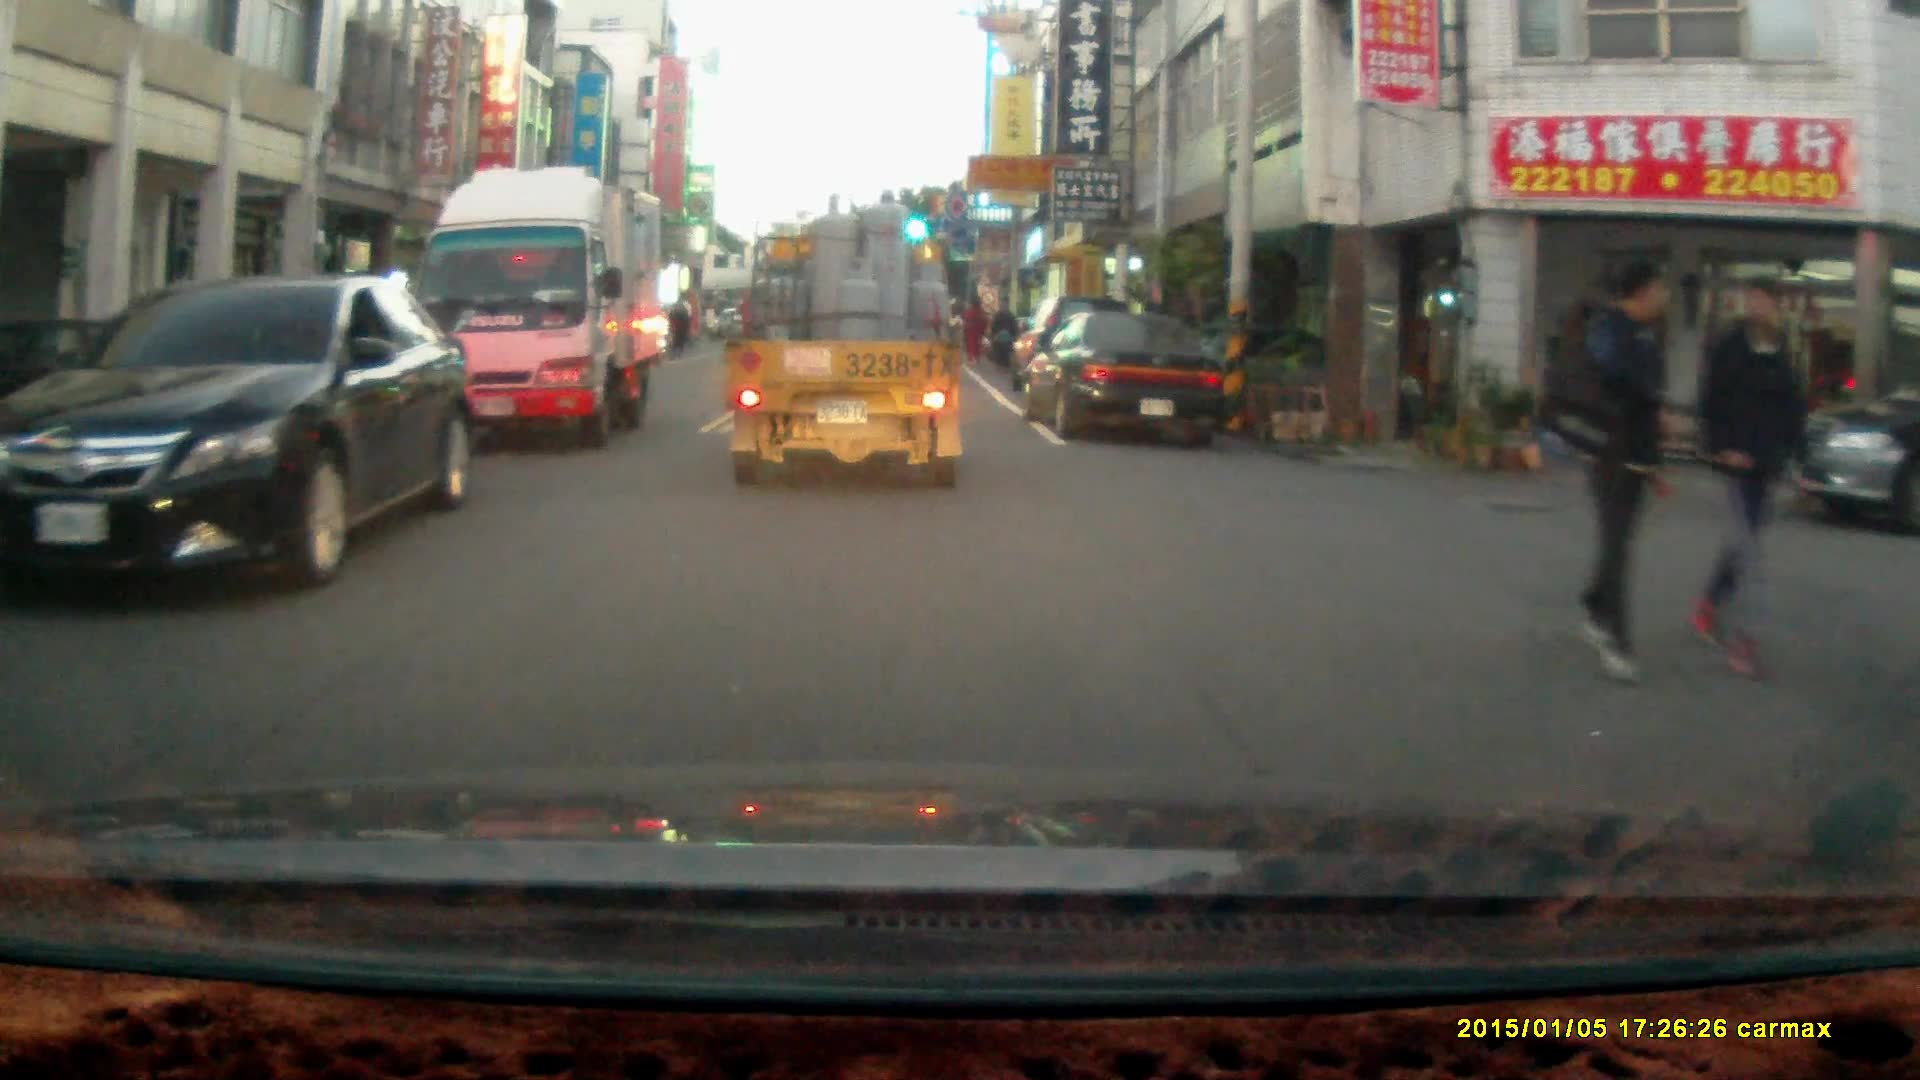pedestrian: (1684, 268, 1811, 681), (1565, 253, 1671, 680), (987, 290, 1017, 372), (961, 291, 990, 364), (664, 295, 692, 355)
vehicle: (3, 266, 478, 596), (412, 165, 666, 448), (730, 184, 966, 486), (1026, 311, 1230, 444)
